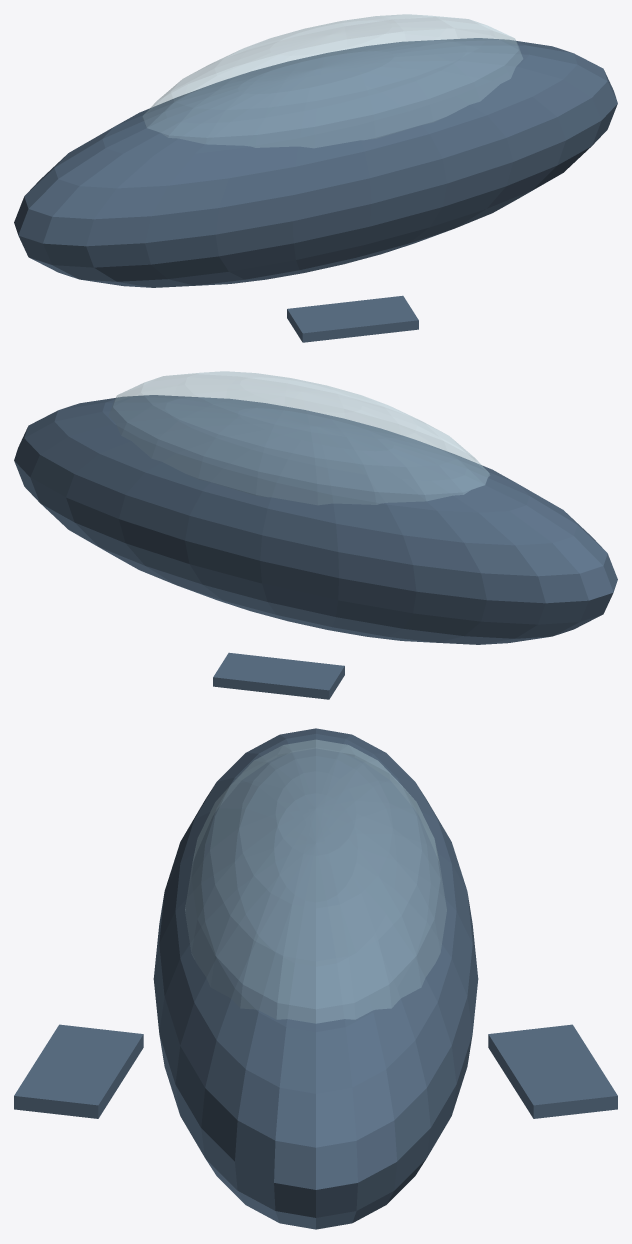
Rendered from reef-sub.glb.
3 renders of one model, top to bottom at view 1: azimuth 30°, elevation 25°; view 2: azimuth 150°, elevation 25°; view 3: azimuth 270°, elevation 25°, orthographic. The views are drawn at different scales.
Visible parts, largest first — view 1: Sphere.004, Sphere.007; view 2: Sphere.004, Sphere.007; view 3: Sphere.004, Sphere.007.
Part boxes in pixels (x1,y1,x2,y2): Sphere.004: (14, 38, 617, 342); Sphere.007: (142, 14, 522, 147); Sphere.004: (14, 395, 617, 699); Sphere.007: (109, 371, 489, 504); Sphere.004: (14, 728, 617, 1229); Sphere.007: (185, 739, 446, 1023).
Size of the model in its own units: 14.4 by 5.04 by 8.71.
